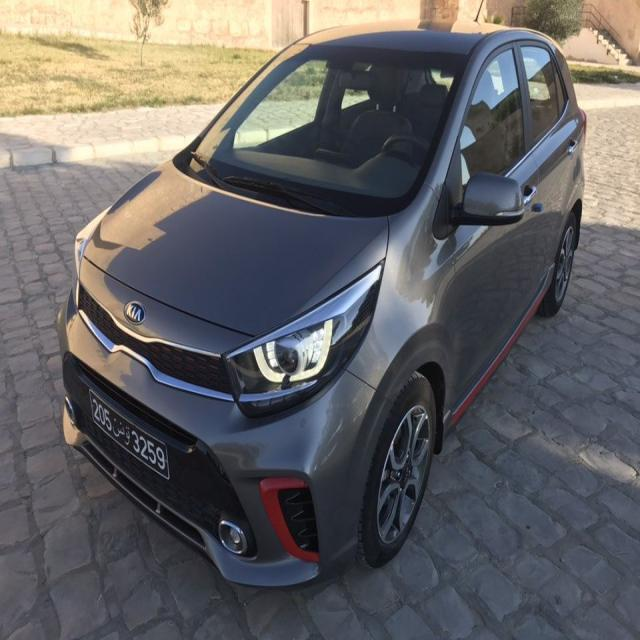LP: (86, 386, 171, 481)
